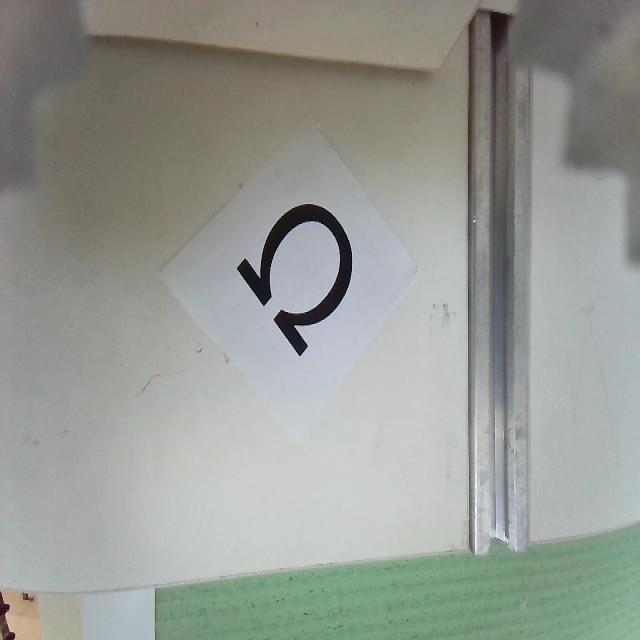OM: (235, 201, 352, 356)
